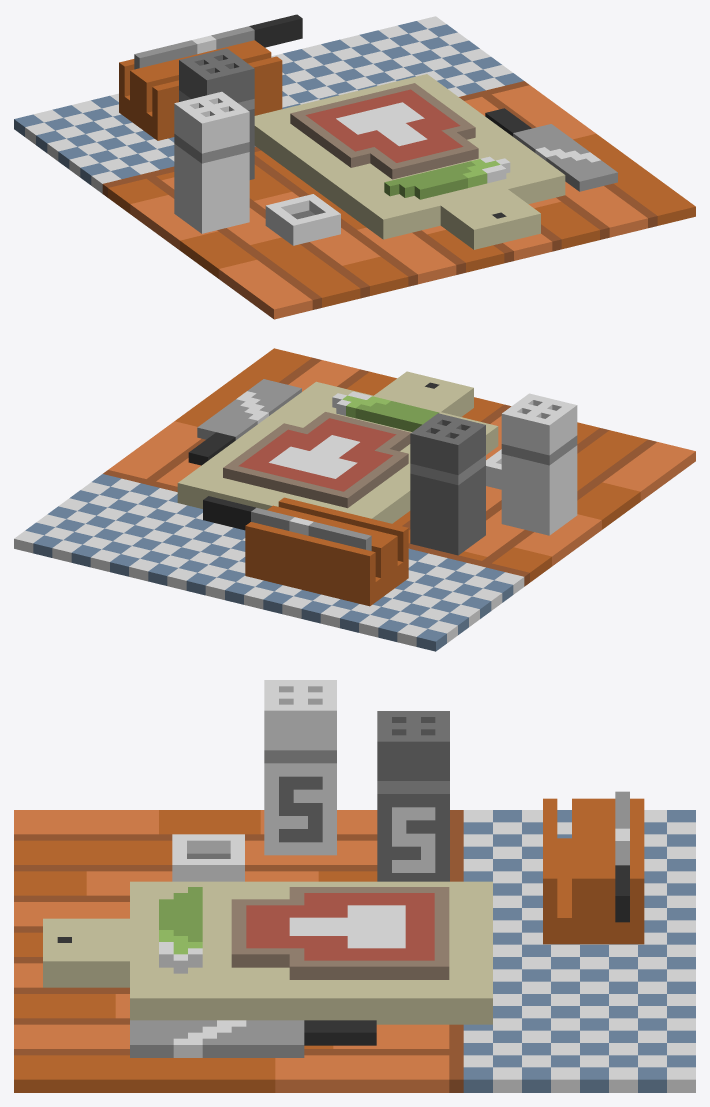
The model's file is lv35_kitchen.fbx.
3 views of the same model, one above another, from view 1: azimuth 30°, elevation 25°; view 2: azimuth 150°, elevation 25°; view 3: azimuth 270°, elevation 25° (orthographic). The views are drawn at different scales.
Size of the model in its own units: 44 by 12 by 47.
